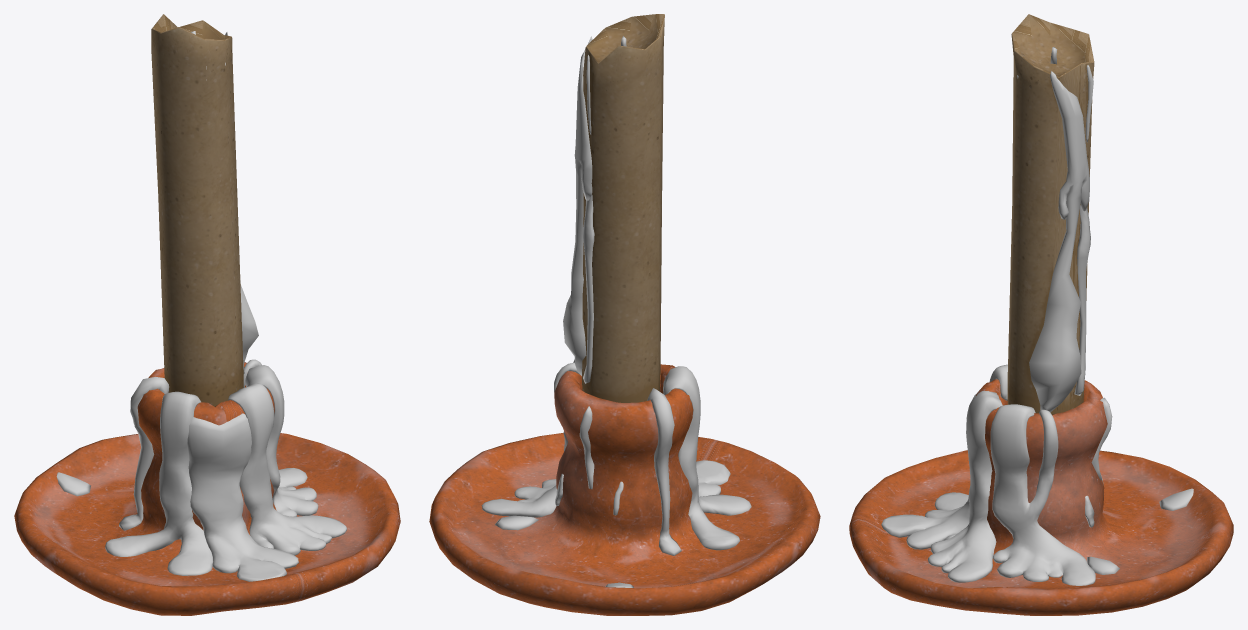
Rendered from CandleHolder.fbx.
3 views of the same model, side by side, from view 1: azimuth 30°, elevation 25°; view 2: azimuth 150°, elevation 25°; view 3: azimuth 270°, elevation 25° (orthographic).
Parts seen in each view (by area): view 1: CandleHolder; view 2: CandleHolder; view 3: CandleHolder.
Boxes of the visible parts, x1,y1,x2,y2 form: CandleHolder: [14, 14, 400, 615]; CandleHolder: [429, 14, 820, 615]; CandleHolder: [849, 14, 1233, 615].
Size of the model in its own units: 103 by 160 by 105.
